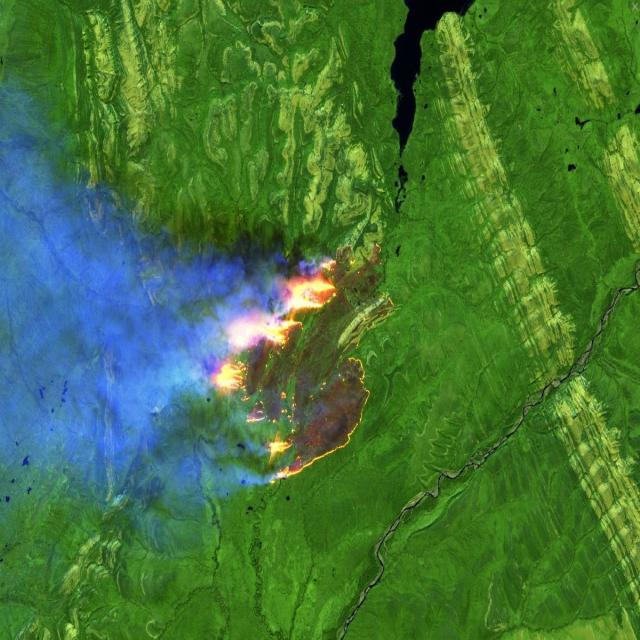fire: (205, 242, 396, 489)
